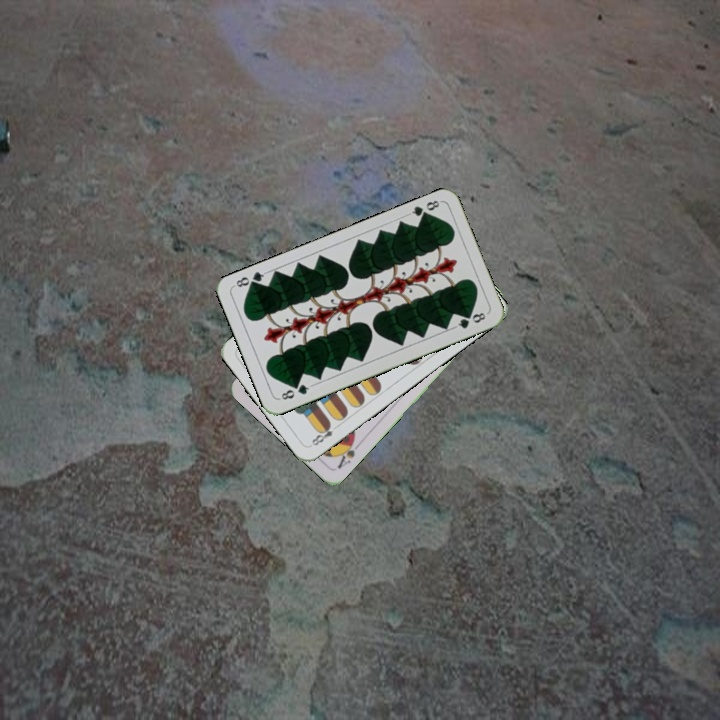E8: (306, 419, 342, 449)
G8: (404, 196, 442, 222), (275, 380, 314, 403)
SA: (333, 434, 364, 472)
